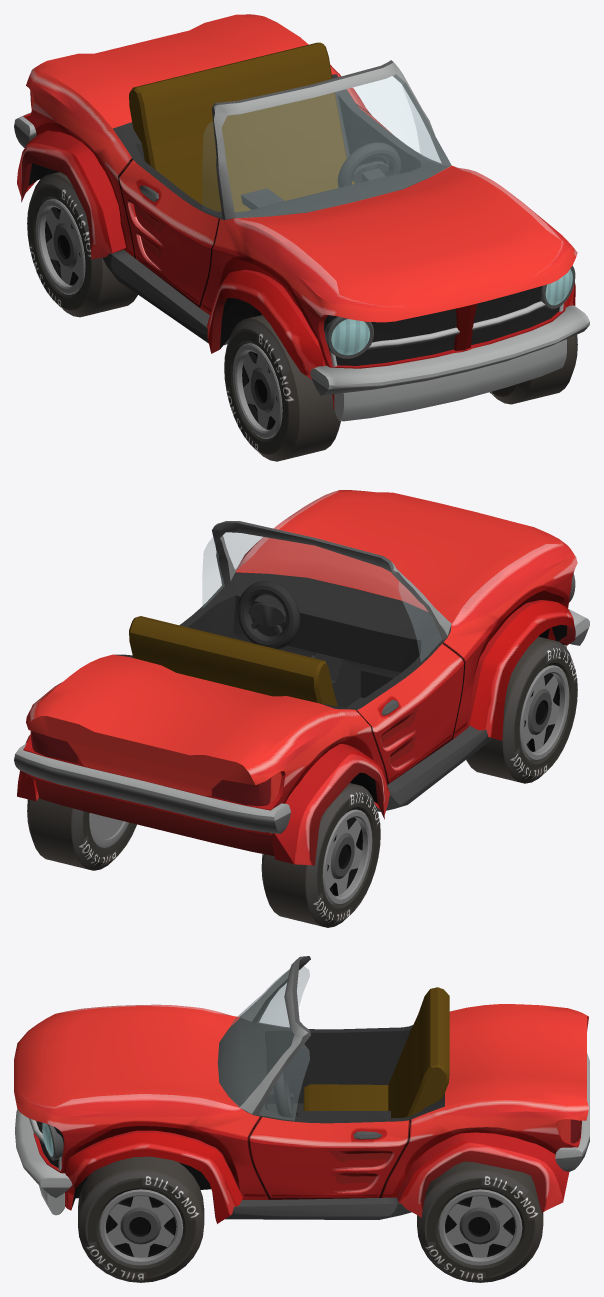
File: car_sports.glb
The picture shows the model from 3 angles, top to bottom: view 1: azimuth 30°, elevation 25°; view 2: azimuth 150°, elevation 25°; view 3: azimuth 270°, elevation 25°; orthographic projection. The views are drawn at different scales.
Visible parts, largest first — view 1: HCR2_SP_Body_13, HCR2_SP_Seat_4, HCR2_SP_Windows_0, HCR2_SP_Front_Bumper_8, HCR2_SP_Fenders_12, HCR2_SP_FR_Wheel_19, HCR2_SP_RR_Wheel_17, HCR2_SP_Interior_6, HCR2_SP_Grl_7, HCR2_SP_Window_Frame_1, HCR2_SP_Side_Skirts_11, HCR2_SP_FLights_15 (+3 smaller); view 2: HCR2_SP_Body_13, HCR2_SP_Interior_6, HCR2_SP_Fenders_12, HCR2_SP_RR_Wheel_17, HCR2_SP_FR_Wheel_19, HCR2_SP_Seat_4, HCR2_SP_Windows_0, HCR2_SP_Rear_Bumper_5, HCR2_SP_RL_Wheel_16, HCR2_SP_Window_Frame_1, HCR2_SP_Steer_3, HCR2_SP_Side_Skirts_11 (+1 smaller); view 3: HCR2_SP_Body_13, HCR2_SP_FL_Wheel_18, HCR2_SP_Interior_6, HCR2_SP_RL_Wheel_16, HCR2_SP_Fenders_12, HCR2_SP_Windows_0, HCR2_SP_Seat_4, HCR2_SP_Side_Skirts_11, HCR2_SP_Window_Frame_1, HCR2_SP_Front_Bumper_8, HCR2_SP_Rear_Bumper_5, HCR2_SP_Steer_3 (+4 smaller).
Boxes of the visible parts, bbox=[...] form: HCR2_SP_Body_13: bbox=[23, 14, 577, 409]; HCR2_SP_Seat_4: bbox=[129, 42, 355, 212]; HCR2_SP_Windows_0: bbox=[202, 75, 451, 217]; HCR2_SP_Front_Bumper_8: bbox=[310, 305, 589, 421]; HCR2_SP_Fenders_12: bbox=[17, 87, 575, 379]; HCR2_SP_FR_Wheel_19: bbox=[224, 315, 340, 461]; HCR2_SP_RR_Wheel_17: bbox=[27, 172, 137, 317]; HCR2_SP_Interior_6: bbox=[113, 74, 450, 219]; HCR2_SP_Grl_7: bbox=[323, 286, 559, 365]; HCR2_SP_Window_Frame_1: bbox=[212, 60, 451, 219]; HCR2_SP_Side_Skirts_11: bbox=[102, 249, 229, 345]; HCR2_SP_FLights_15: bbox=[325, 265, 575, 359]; HCR2_SP_Body_13: bbox=[23, 490, 577, 855]; HCR2_SP_Interior_6: bbox=[114, 572, 451, 709]; HCR2_SP_Fenders_12: bbox=[17, 600, 575, 865]; HCR2_SP_RR_Wheel_17: bbox=[261, 783, 380, 927]; HCR2_SP_FR_Wheel_19: bbox=[466, 636, 577, 783]; HCR2_SP_Seat_4: bbox=[129, 616, 337, 706]; HCR2_SP_Windows_0: bbox=[202, 532, 441, 661]; HCR2_SP_Rear_Bumper_5: bbox=[14, 743, 290, 833]; HCR2_SP_RL_Wheel_16: bbox=[27, 798, 136, 870]; HCR2_SP_Window_Frame_1: bbox=[212, 521, 451, 640]; HCR2_SP_Steer_3: bbox=[236, 581, 300, 649]; HCR2_SP_Side_Skirts_11: bbox=[375, 725, 492, 811]; HCR2_SP_Body_13: bbox=[14, 1004, 588, 1210]; HCR2_SP_FL_Wheel_18: bbox=[78, 1156, 204, 1282]; HCR2_SP_Interior_6: bbox=[218, 1017, 444, 1123]; HCR2_SP_RL_Wheel_16: bbox=[417, 1161, 543, 1282]; HCR2_SP_Fenders_12: bbox=[65, 1130, 569, 1223]; HCR2_SP_Windows_0: bbox=[217, 966, 309, 1120]; HCR2_SP_Seat_4: bbox=[303, 987, 449, 1118]; HCR2_SP_Side_Skirts_11: bbox=[225, 1197, 411, 1219]; HCR2_SP_Window_Frame_1: bbox=[239, 956, 310, 1115]; HCR2_SP_Front_Bumper_8: bbox=[15, 1109, 72, 1215]; HCR2_SP_Rear_Bumper_5: bbox=[555, 1053, 589, 1171]; HCR2_SP_Steer_3: bbox=[273, 1065, 292, 1117].
Bounding box in the file's own units: 1.9 × 1.69 × 3.76.
3 materials, 2 textured.
